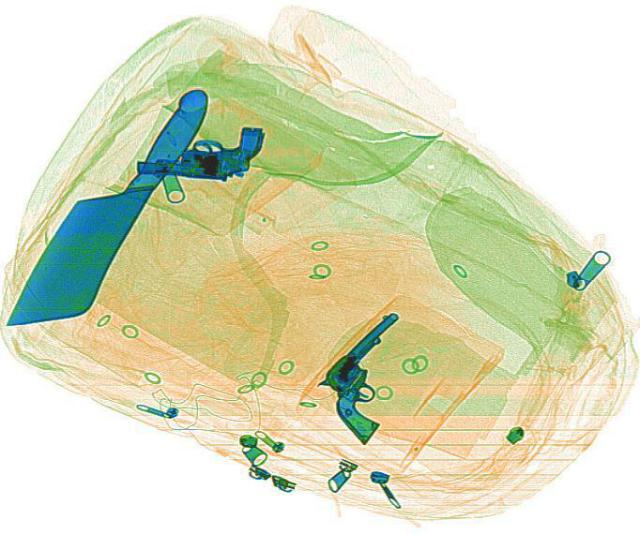Gun: (290, 306, 462, 441), (135, 121, 263, 180)
Knife: (0, 71, 221, 343)
